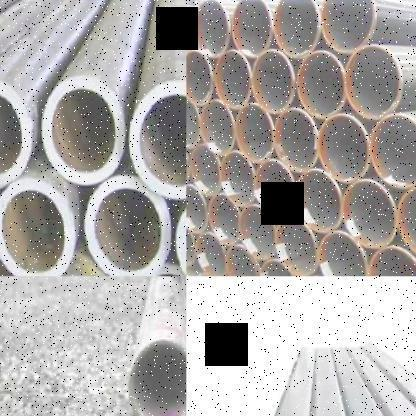pipe: (42, 76, 126, 185), (85, 175, 170, 276), (0, 178, 75, 276), (129, 78, 186, 198), (342, 43, 406, 122), (128, 337, 186, 416), (312, 112, 370, 184), (340, 180, 397, 250), (294, 48, 346, 120), (367, 112, 416, 188), (294, 166, 344, 236), (0, 77, 32, 186), (272, 106, 322, 174), (249, 46, 298, 115), (318, 0, 376, 55), (231, 100, 278, 164), (252, 157, 298, 221), (271, 0, 321, 58), (273, 216, 320, 276), (314, 230, 370, 276), (228, 0, 271, 58), (191, 0, 231, 60), (214, 48, 252, 111), (198, 98, 237, 158), (237, 204, 277, 262), (220, 148, 257, 207), (206, 192, 242, 245), (190, 144, 224, 197), (394, 182, 416, 261), (186, 48, 214, 107), (366, 244, 416, 276), (192, 230, 226, 276), (223, 242, 261, 276), (186, 182, 208, 234), (186, 94, 204, 148), (0, 252, 40, 276), (258, 258, 298, 276), (186, 218, 195, 268)
